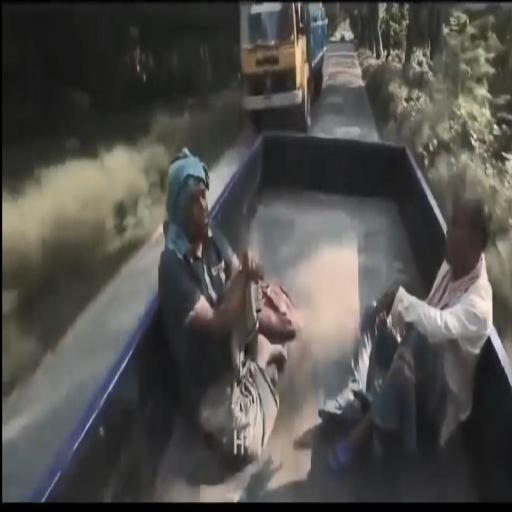truck: (237, 3, 328, 134)
